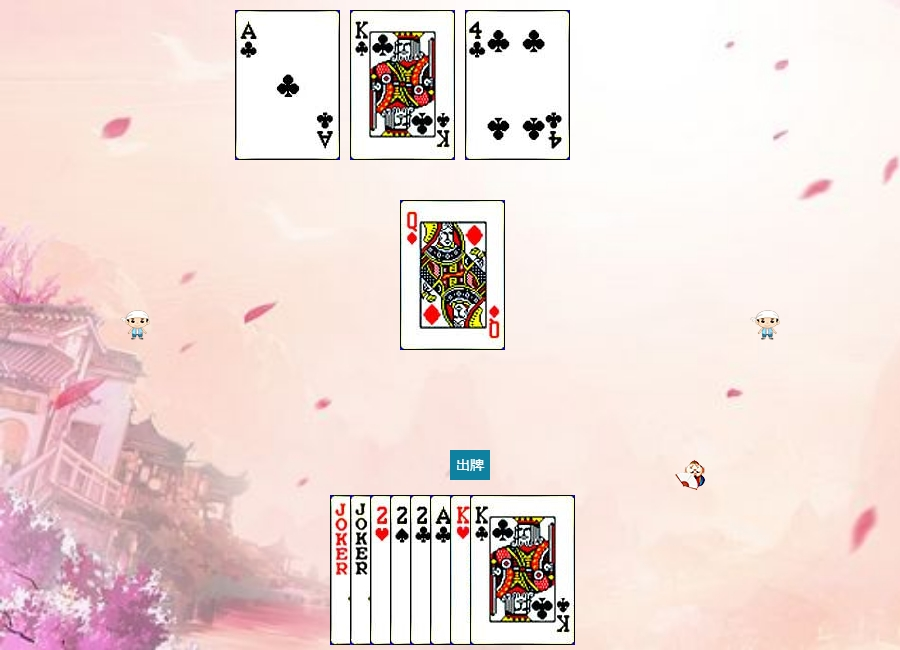12~1: (400, 200, 505, 350)
13~2: (350, 10, 455, 160), (470, 495, 575, 645)
13~3: (450, 495, 555, 645)
14~2: (235, 10, 340, 160), (430, 495, 535, 645)
15~2: (410, 495, 515, 645)
15~3: (370, 495, 475, 645)
15~4: (390, 495, 495, 645)
17~3: (350, 495, 455, 645)
18~4: (330, 495, 435, 645)
4~2: (465, 10, 570, 160)
